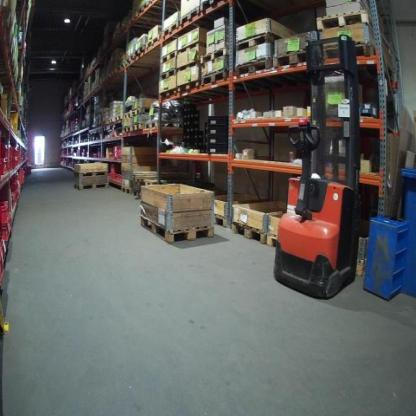pallet: (141, 211, 214, 242), (317, 10, 381, 31), (321, 44, 383, 65), (272, 49, 319, 70), (232, 220, 265, 246), (234, 30, 284, 46), (235, 59, 277, 77), (202, 67, 231, 91), (200, 44, 233, 65), (180, 9, 202, 32), (176, 78, 200, 99), (177, 40, 204, 56), (162, 18, 178, 45), (157, 65, 179, 83), (200, 0, 227, 14), (211, 211, 229, 230), (74, 182, 111, 190), (144, 36, 160, 54), (160, 50, 177, 66), (134, 105, 160, 115), (267, 234, 282, 250), (130, 178, 159, 186), (181, 60, 200, 70), (160, 90, 175, 102), (75, 171, 107, 176), (132, 122, 149, 131), (130, 191, 144, 201), (126, 51, 136, 64), (146, 119, 163, 126), (121, 188, 132, 197), (135, 46, 143, 58), (123, 112, 134, 119), (126, 124, 133, 134)
pallet_truck: (270, 31, 366, 306)
small_load_carrier: (206, 140, 231, 156), (207, 131, 231, 144), (205, 123, 230, 135), (208, 115, 231, 126), (2, 199, 9, 223)
